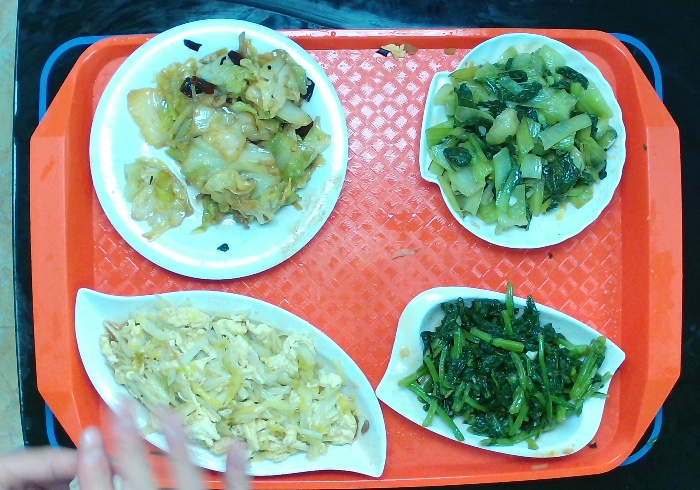RJxy-Bei_Ke_Wan: (408, 28, 636, 257)
RJxy-Jian_Jiao_Fang_Die: (373, 279, 633, 465)
RJxy-Jian_Jiao_Pan: (64, 279, 403, 482)
RJxy-Yuan_Pan: (84, 12, 359, 286)
